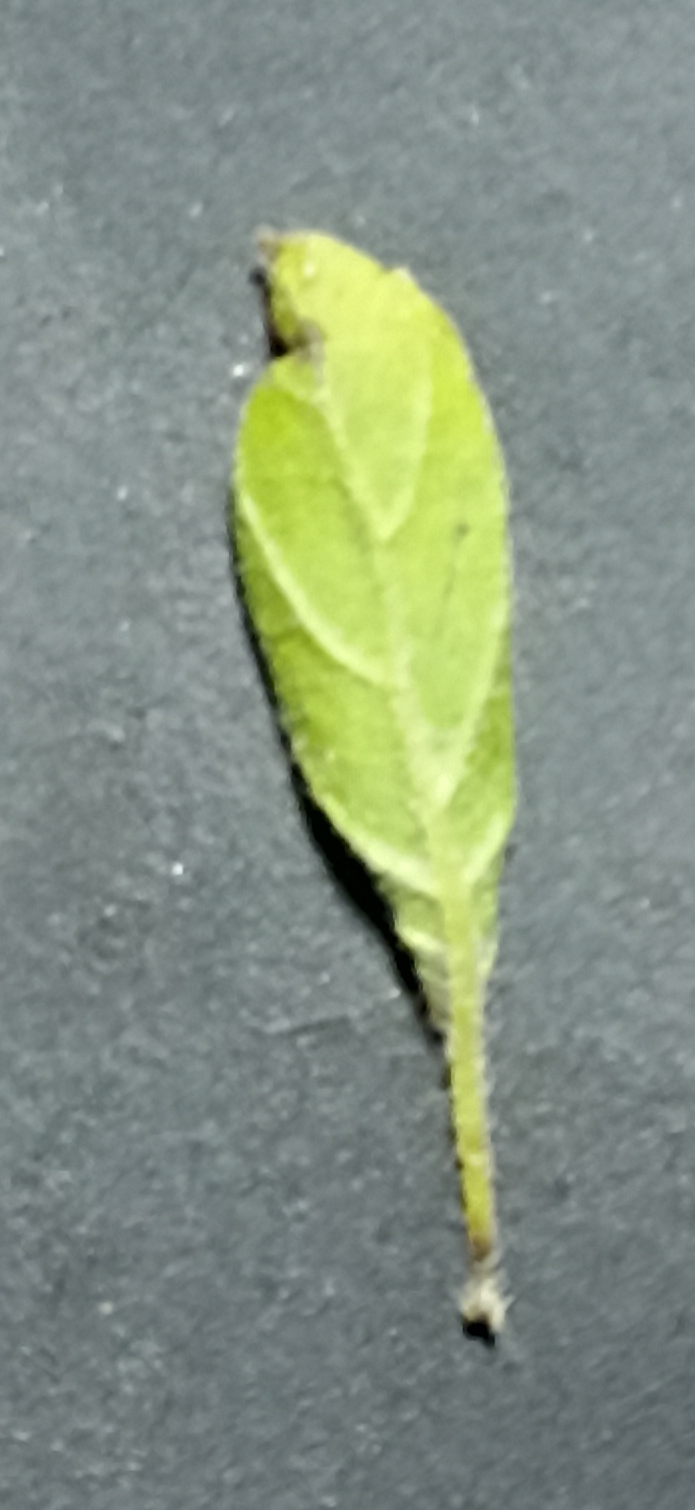Unhealthy: (219, 220, 533, 1027)
